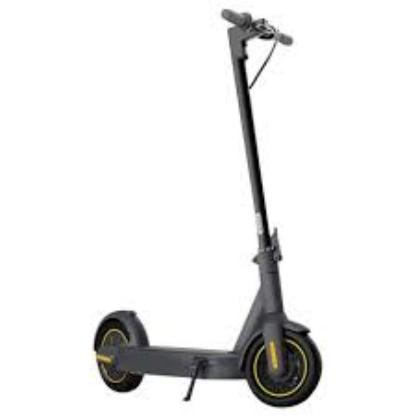bike: (92, 6, 325, 409)
